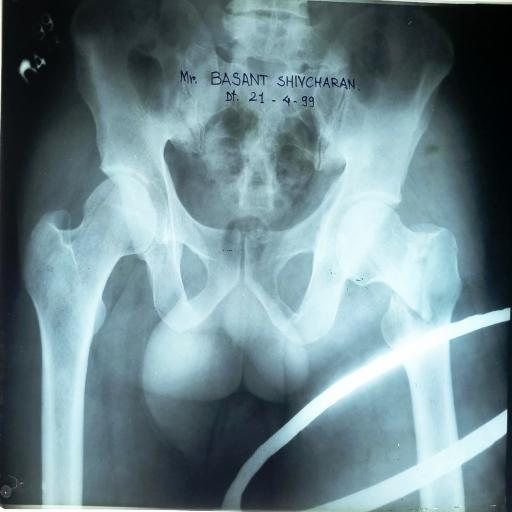neck: (380, 223, 462, 409), (336, 200, 433, 321)
normal: (22, 175, 158, 408)
